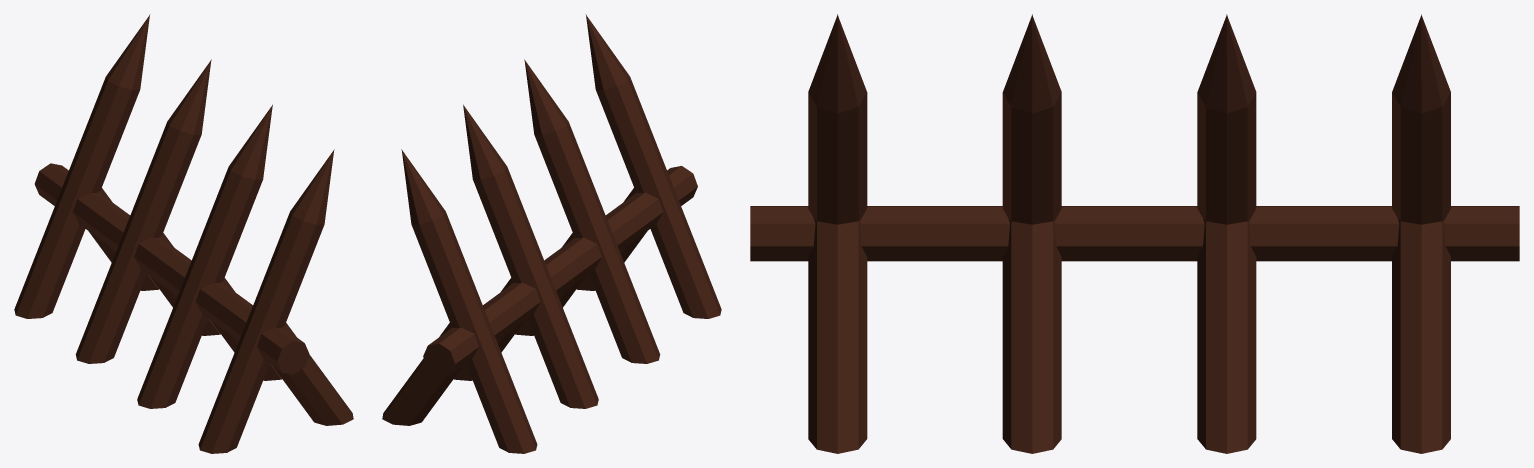
The model's file is spike_barricade.glb.
3 renders of one model, left to right at view 1: azimuth 30°, elevation 25°; view 2: azimuth 150°, elevation 25°; view 3: azimuth 270°, elevation 25°, orthographic. The views are drawn at different scales.
Visible parts, largest first — view 1: Cylinder.002, Cylinder.003; view 2: Cylinder.002, Cylinder.003; view 3: Cylinder.002, Cylinder.003.
Part boxes in pixels (x1,y1,x2,y2): Cylinder.002: [14, 14, 353, 453]; Cylinder.003: [34, 163, 309, 374]; Cylinder.002: [382, 14, 721, 453]; Cylinder.003: [423, 166, 697, 377]; Cylinder.002: [808, 14, 1450, 453]; Cylinder.003: [750, 206, 1519, 261].
Bounding box in the file's own units: 1.14 × 1.91 × 3.13.
